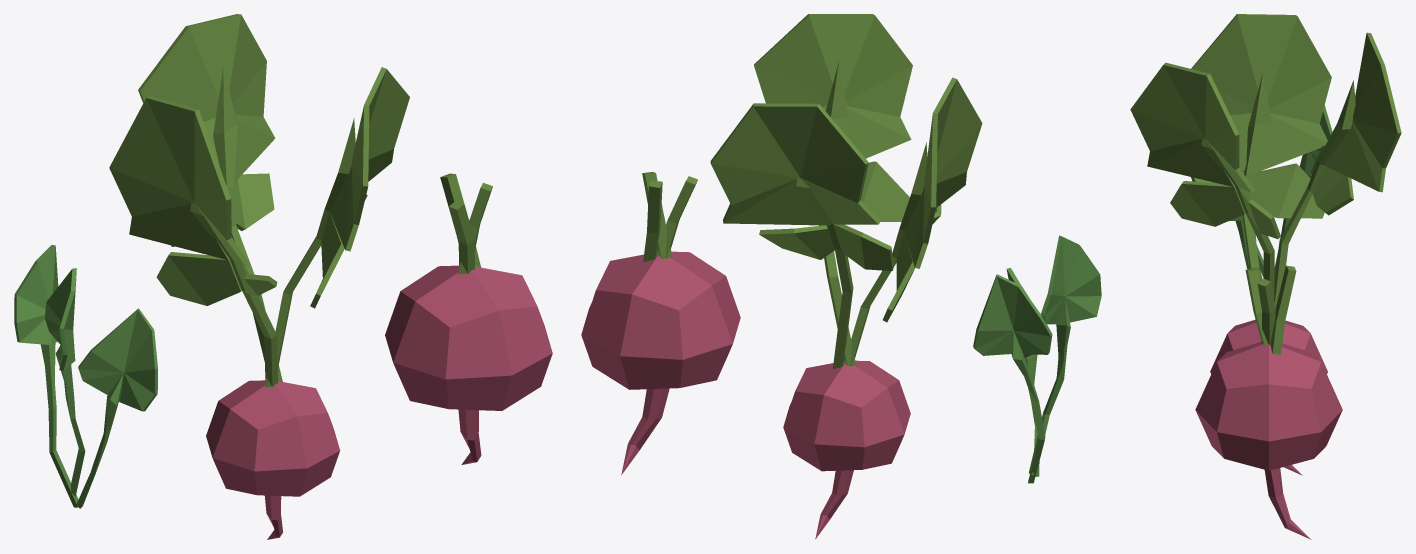
The model's file is Radish.fbx.
3 views of the same model, side by side, from view 1: azimuth 30°, elevation 25°; view 2: azimuth 150°, elevation 25°; view 3: azimuth 270°, elevation 25° (orthographic). The views are drawn at different scales.
Visible parts, largest first — view 1: Radish_Plant, Radish_Crop, Radish_Sprout; view 2: Radish_Plant, Radish_Crop, Radish_Sprout; view 3: Radish_Plant, Radish_Crop, Radish_Sprout.
Part boxes in pixels (<box>): Radish_Plant: <box>109,14,409,539</box>; Radish_Crop: <box>385,173,552,464</box>; Radish_Sprout: <box>14,245,157,508</box>; Radish_Plant: <box>710,14,982,539</box>; Radish_Crop: <box>581,172,740,474</box>; Radish_Sprout: <box>973,235,1101,483</box>; Radish_Plant: <box>1130,14,1401,475</box>; Radish_Crop: <box>1195,265,1342,539</box>; Radish_Sprout: <box>1228,105,1332,282</box>.
Bounding box in the file's own units: 1.31 × 1.21 × 0.6986.
